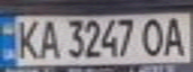2: (81, 17, 103, 60)
3: (63, 17, 84, 60)
4: (100, 17, 121, 57)
7: (115, 16, 139, 57)
A: (160, 15, 190, 57), (36, 17, 63, 60)
K: (9, 17, 42, 61)
O: (139, 16, 169, 57)
